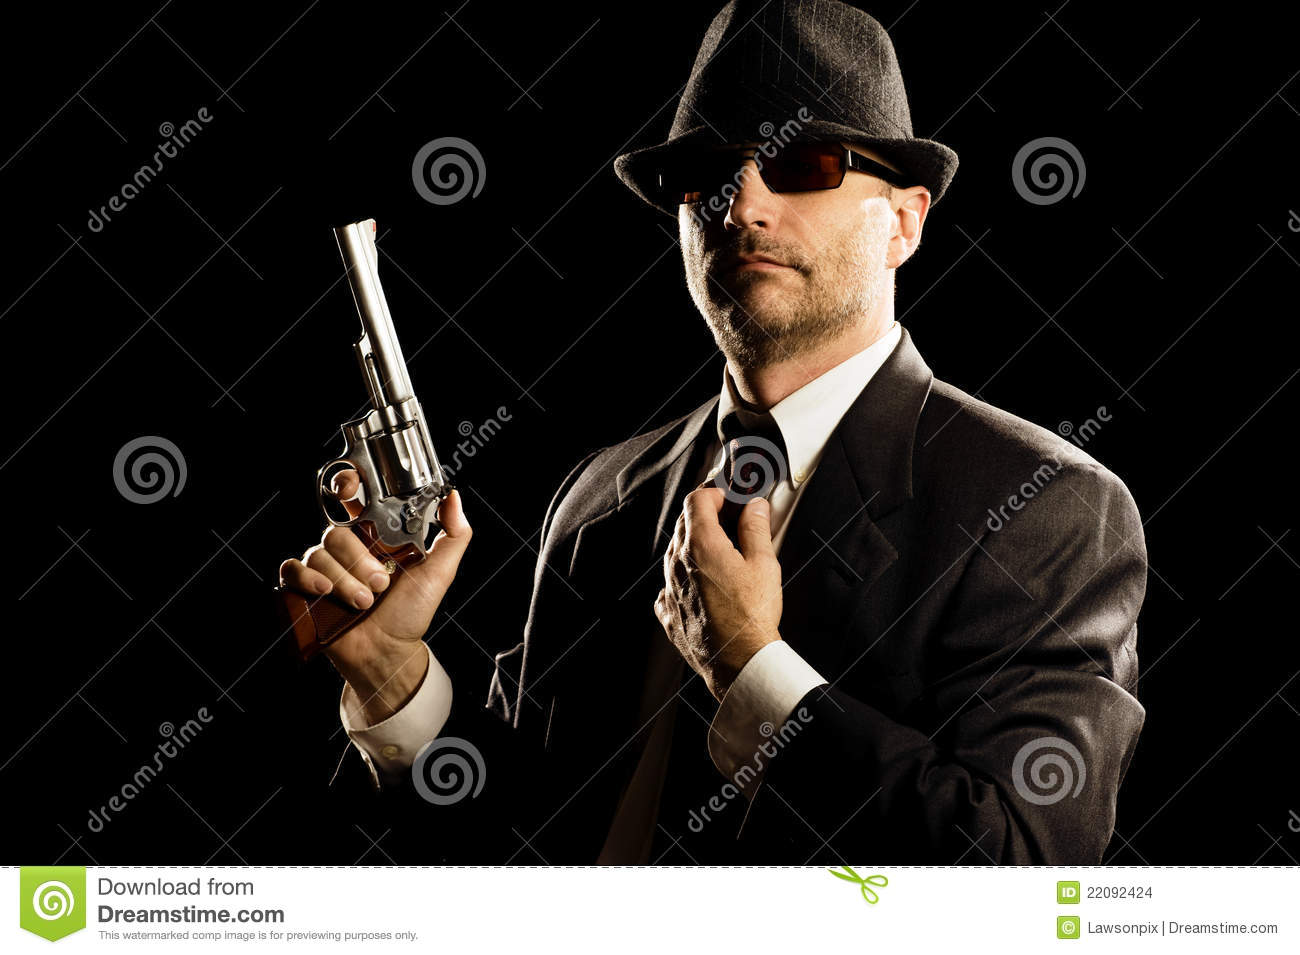Revolver: (224, 203, 500, 662)
